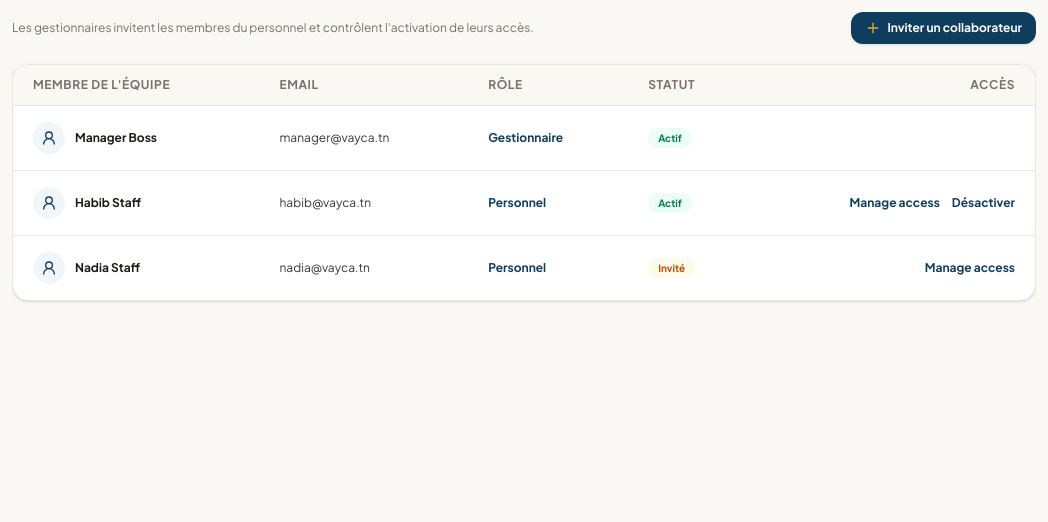
Test: TeamManagementPanel › toggles invite form and submits new member invitation
Check: the text "Habib Staff" is shown, box [75,195,141,211]
Click the button "Inviter un collaborateur" at (944,28), box [851,12,1036,44]
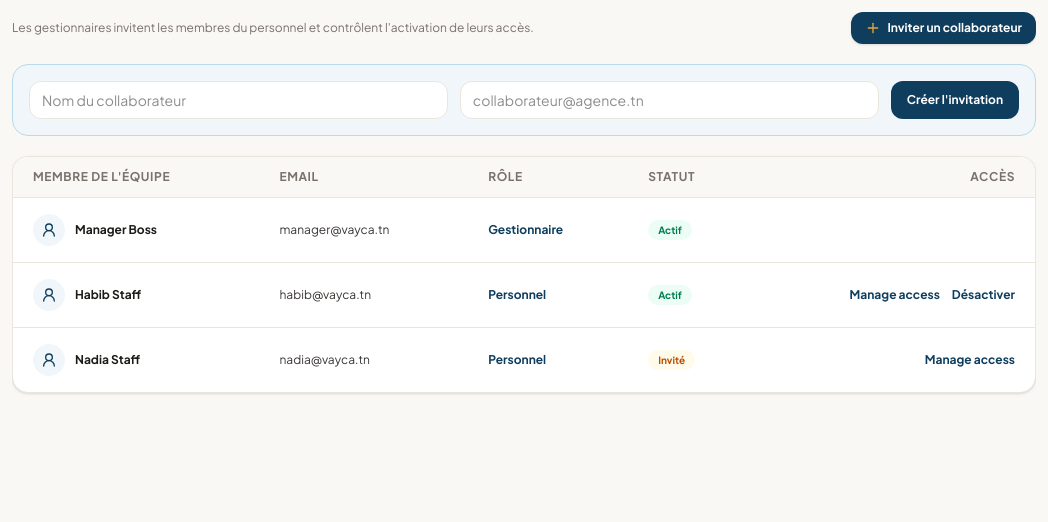
Type "Sami Staff" into the field with placeholder "Nom du collaborateur" at (238,100), box [29,81,448,119]
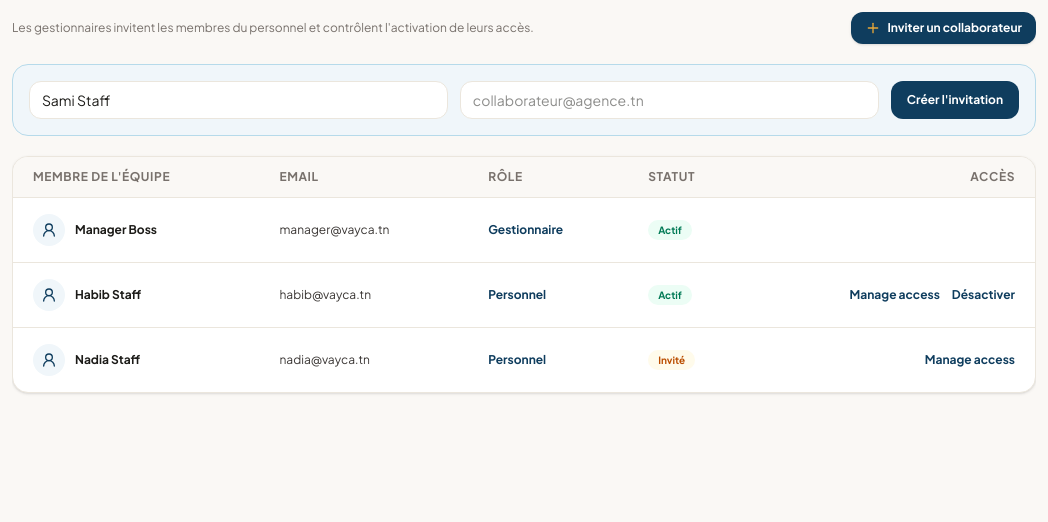
Type "sami@vayca.tn" into the field with placeholder "collaborateur@agence.tn" at (669,100), box [460,81,879,119]
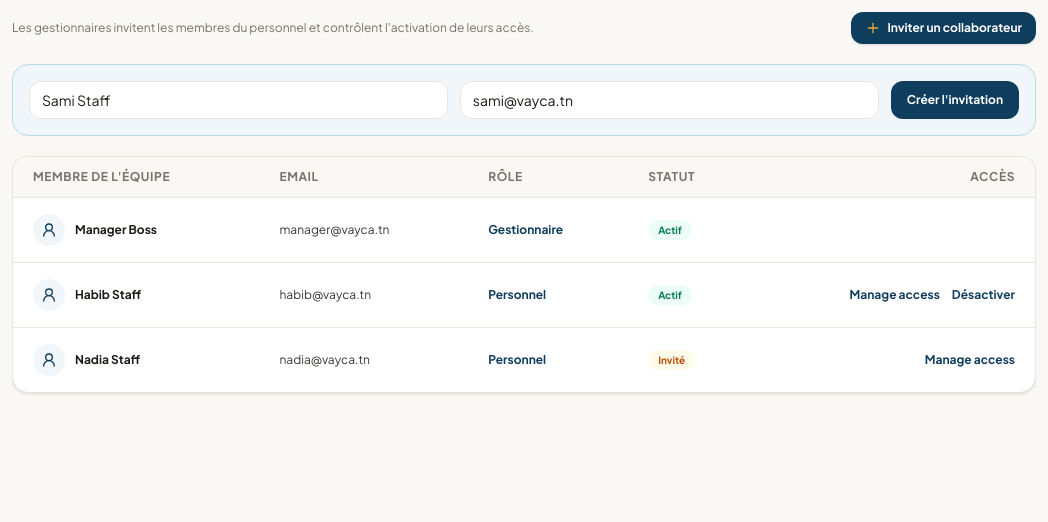
Click the button "Créer l'invitation" at (955,100), box [891,81,1019,119]
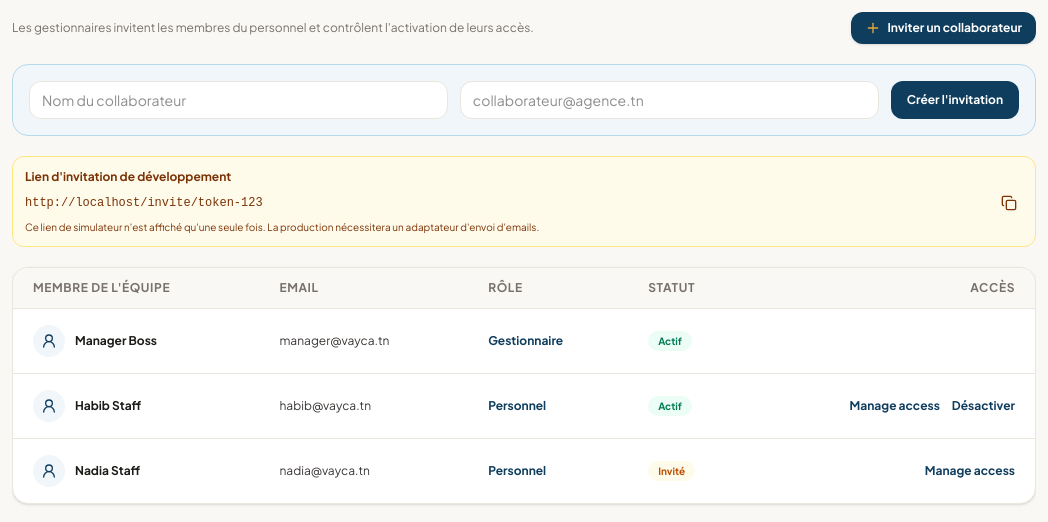
Check: the text "Lien d'invitation de développement" is shown, box [25,169,231,184]
Check: the text "http://localhost/invite/token-123" is shown, box [25,196,263,210]
